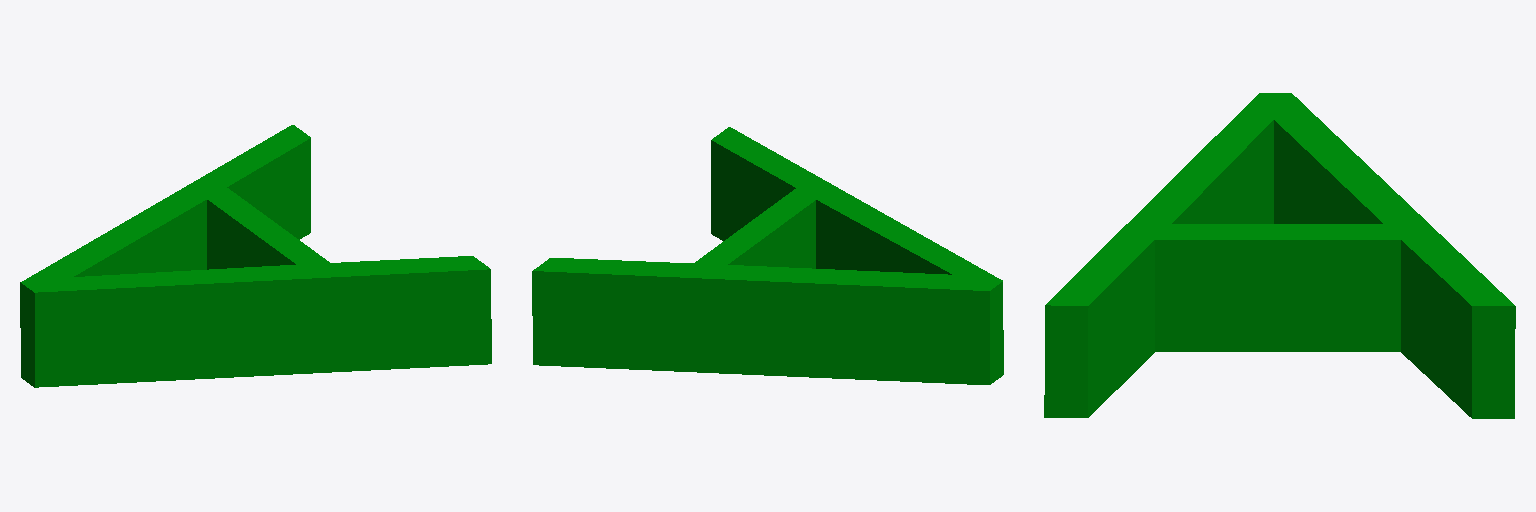
The robot description file, URDF, robot "letter_A":
<?xml version="0.0" ?>
<robot name="letter_A">
    <material name="green">
        <color rgba="0.005953 0.613846 0.061735 1"/>
    </material>

    <link name="baseLink">
        <!-- from lego/lego.urdf -->
        <contact>
            <lateral_friction value="1.0"/>
            <rolling_friction value="0.0"/>
            <contact_cfm value="0.0"/>
            <contact_erp value="1.0"/>
        </contact>
        <inertial>
            <origin rpy="0 0 0" xyz="0 0 0"/>
            <mass value="0.01"/>
            <inertia ixx="1" ixy="0" ixz="0" iyy="1" iyz="0" izz="1"/>
        </inertial>
        <visual>
            <origin rpy="1.57 0 0" xyz="0 0 0"/>
            <geometry>
                <!--        radius: 10mm, depth: 14.5mm-->
                <mesh filename="meshes/letter_A.obj" scale="0.024 0.024 0.024"/>
                <!--        <box size="0.002 0.002 0.002"/>-->
            </geometry>
            <material name="green"/>
        </visual>
        <collision>
            <origin rpy="1.57 0 0" xyz="0 0 0"/>
            <geometry>
                <mesh filename="meshes/letter_A_vhacd.obj" scale="0.024 0.024 0.024"/>
                       <!-- <box size="0.002 0.002 0.002"/> -->
            </geometry>
        </collision>
    </link>

    <link name="waypoint_0">
        <!--    origin-->
        <inertial>
            <origin rpy="0 0 0" xyz="0 0 0"/>
            <mass value=".0"/>
            <inertia ixx="0." ixy="0" ixz="0" iyy="0." iyz="0" izz="0."/>
        </inertial>
    </link>

    <joint name="waypoint_joint_0" type="fixed">
        <parent link="baseLink"/>
        <child link="waypoint_0"/>
        <origin rpy="0 0 0" xyz="0.01 0 0.03"/>
    </joint>

    <link name="waypoint_1">
        <!--    origin-->
        <inertial>
            <origin rpy="0 0 0" xyz="0 0 0"/>
            <mass value=".0"/>
            <inertia ixx="0." ixy="0" ixz="0" iyy="0." iyz="0" izz="0."/>
        </inertial>
    </link>

    <joint name="waypoint_joint_1" type="fixed">
        <parent link="baseLink"/>
        <child link="waypoint_1"/>
        <origin rpy="0 0 -1.15" xyz="0.02 0.02 0.03"/>
    </joint>

    <link name="waypoint_2">
        <!--    origin-->
        <inertial>
            <origin rpy="0 0 0" xyz="0 0 0"/>
            <mass value=".0"/>
            <inertia ixx="0." ixy="0" ixz="0" iyy="0." iyz="0" izz="0."/>
        </inertial>
    </link>

    <joint name="waypoint_joint_2" type="fixed">
        <parent link="baseLink"/>
        <child link="waypoint_2"/>
        <origin rpy="0 0 1.15" xyz="0.02 -0.02 0.03"/>
    </joint>
</robot>

--- Facts derived from the render (not from the file) ---
Views: 3 orthographic renders of the robot side by side, from view 1: azimuth 30°, elevation 25°; view 2: azimuth 150°, elevation 25°; view 3: azimuth 270°, elevation 25°.
Model letter_A with 4 links and 3 joints (3 fixed), rooted at baseLink, posed all joints at 0.
Visible links, largest first — view 1: baseLink; view 2: baseLink; view 3: baseLink.
Link boxes in pixels (x1,y1,x2,y2): baseLink: (20,125,491,387); baseLink: (532,127,1003,384); baseLink: (1044,93,1515,418).
Bounding box of the posed robot: 0.062 × 0.0582 × 0.0154 m (x, y, z).
Meshes: 1 distinct files referenced, 1 mesh visuals loaded (1 OBJ).